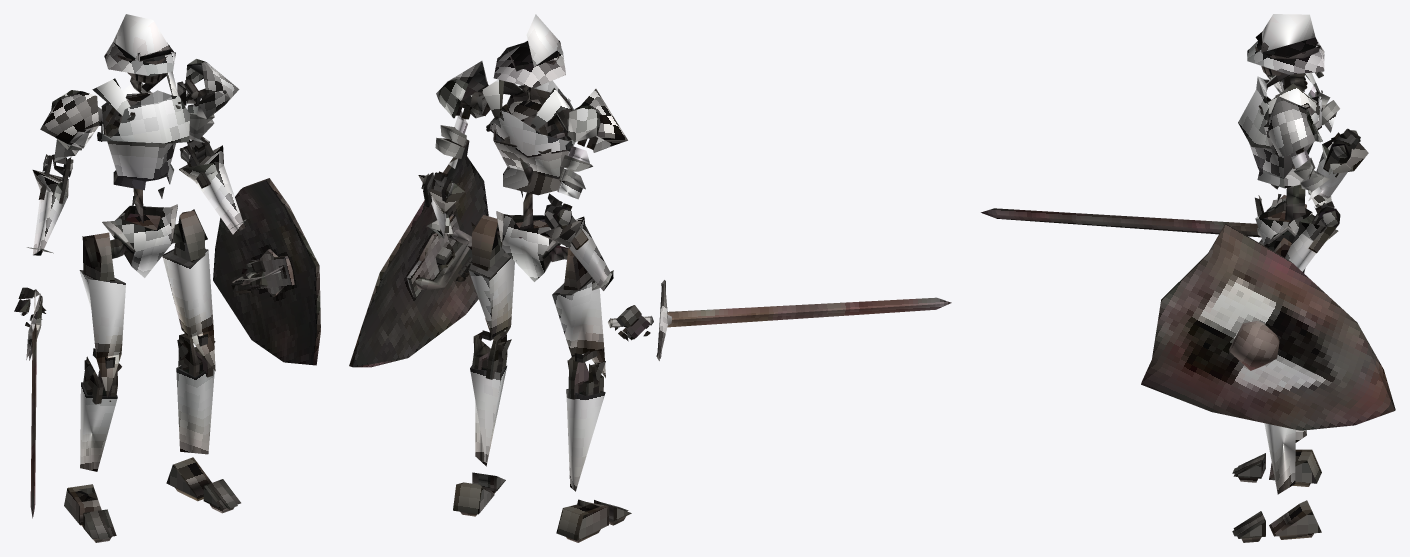
The model's file is npc-checkered-guard-lod.glb.
3 views of the same model, side by side, from view 1: azimuth 30°, elevation 25°; view 2: azimuth 150°, elevation 25°; view 3: azimuth 270°, elevation 25° (orthographic).
Parts seen in each view (by area): view 1: Object_11_baked, Object_15_baked, Object_13_baked; view 2: Object_11_baked, Object_15_baked, Object_13_baked; view 3: Object_15_baked, Object_11_baked, Object_13_baked.
Part boxes in pixels (x1,y1,x2,y2): Object_11_baked: [14, 14, 267, 542]; Object_15_baked: [213, 178, 320, 365]; Object_13_baked: [26, 289, 42, 518]; Object_11_baked: [418, 14, 650, 542]; Object_15_baked: [349, 139, 488, 367]; Object_13_baked: [608, 280, 951, 360]; Object_15_baked: [1141, 223, 1395, 430]; Object_11_baked: [1232, 14, 1368, 542]; Object_13_baked: [981, 195, 1264, 237].
Bounding box in the file's own units: 1.51 × 1.78 × 1.34.
Materials: 3 (3 with a texture image).
